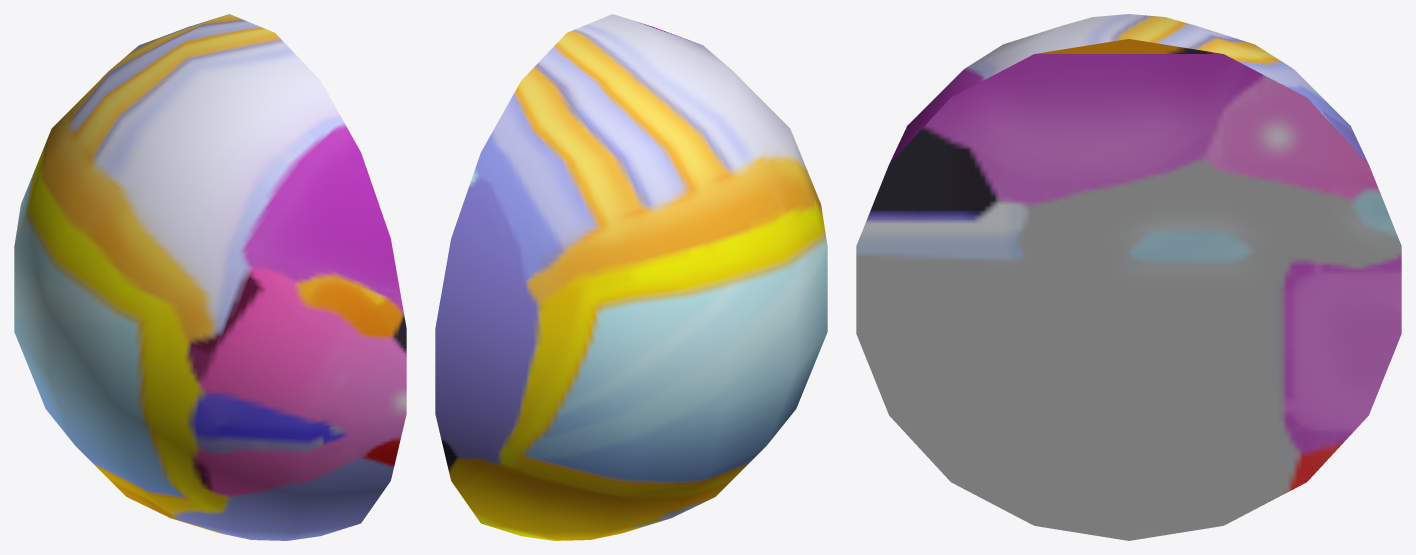
The model's file is dif2.2.fbx.
The picture shows the model from 3 angles, left to right: view 1: azimuth 30°, elevation 25°; view 2: azimuth 150°, elevation 25°; view 3: azimuth 270°, elevation 25°; orthographic projection. The views are drawn at different scales.
Parts seen in each view (by area): view 1: Sphere.001; view 2: Sphere.001; view 3: Sphere.001.
Boxes of the visible parts, x1,y1,x2,y2 form: Sphere.001: (14, 14, 406, 540); Sphere.001: (435, 14, 827, 540); Sphere.001: (856, 14, 1401, 540).
Bounding box in the file's own units: 213 × 433 × 426.
